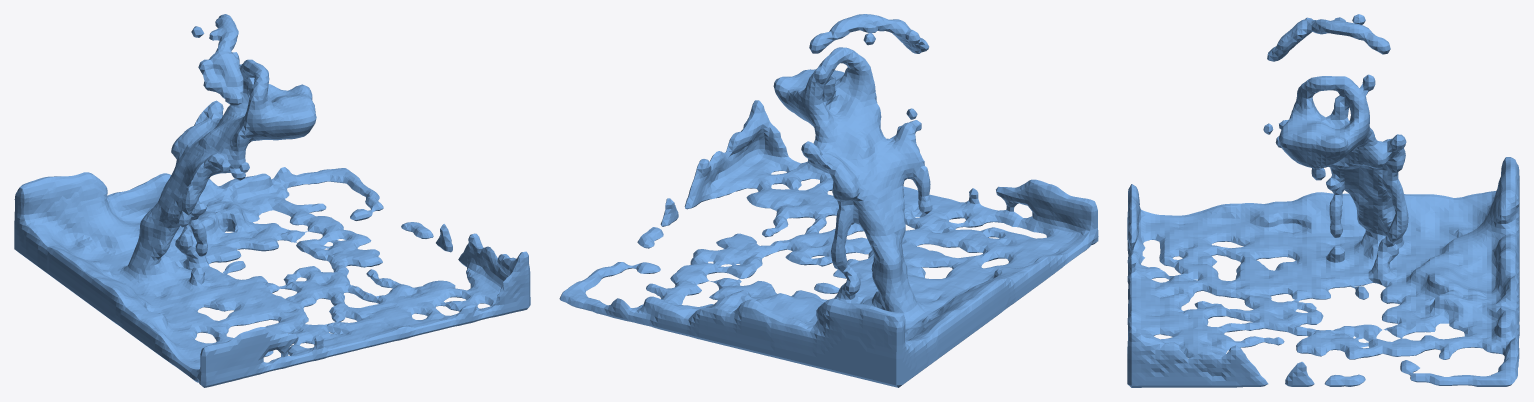
File: water_0063.glb
3 renders of one model, left to right at view 1: azimuth 30°, elevation 25°; view 2: azimuth 150°, elevation 25°; view 3: azimuth 270°, elevation 25°, orthographic. The views are drawn at different scales.
Parts seen in each view (by area): view 1: Water_0063; view 2: Water_0063; view 3: Water_0063.
Boxes of the visible parts, left/top/right/bottom form: Water_0063: left=14, top=14, right=530, bottom=387; Water_0063: left=559, top=14, right=1098, bottom=387; Water_0063: left=1127, top=14, right=1519, bottom=387.
Bounding box in the file's own units: 4.83 × 3.63 × 4.83.
